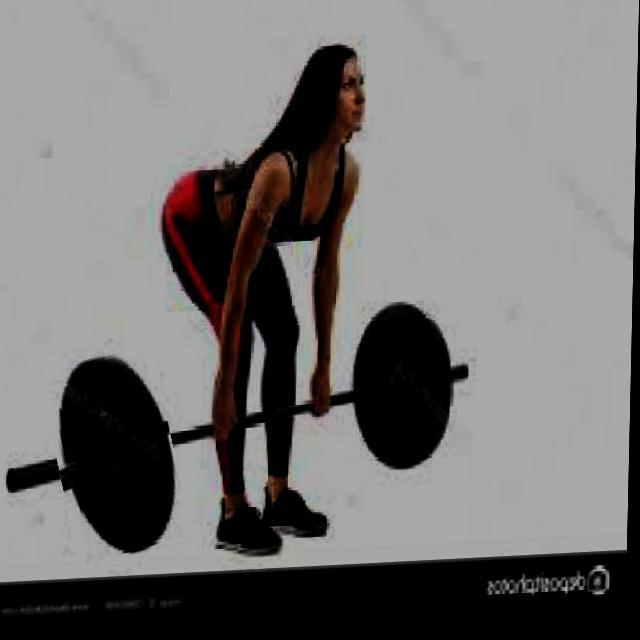barbell: (46, 335, 188, 571)
